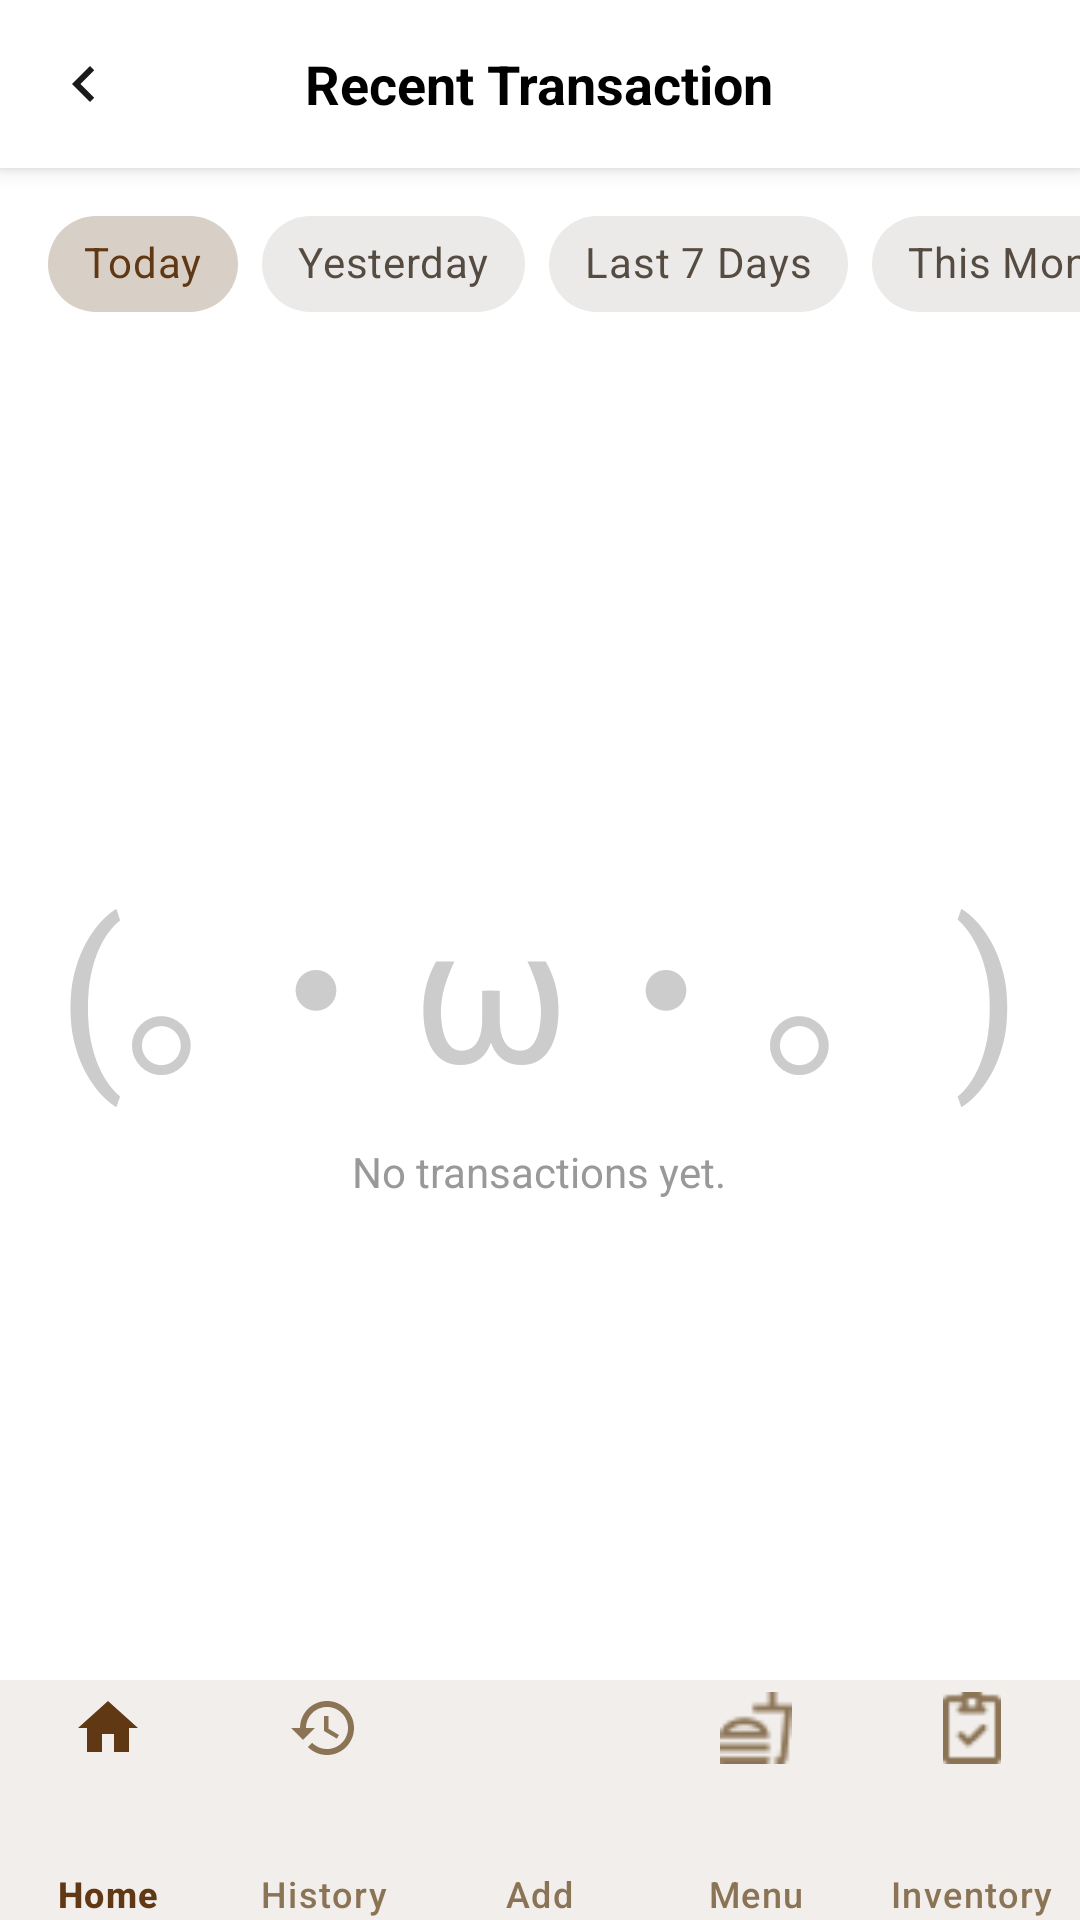

Icons on this 1080×1920 Android screen, each with its box as bbox(x1, y1, x2, y2):
Back: bbox(72, 66, 94, 102)
